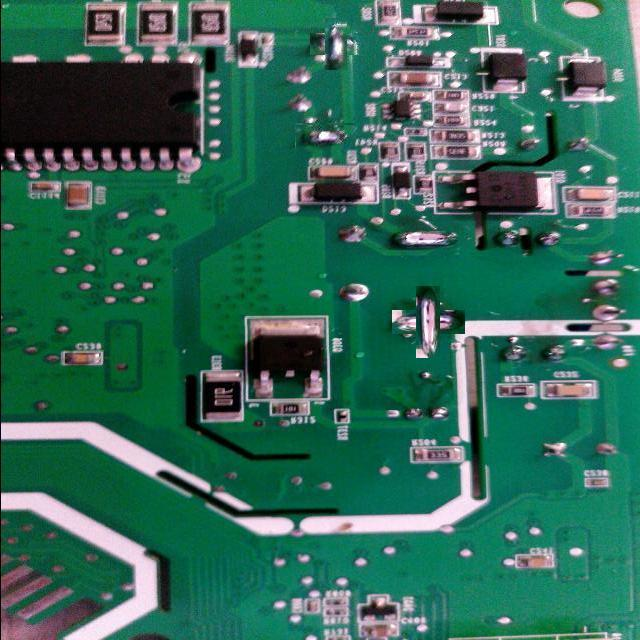Short_circuit: (404, 298, 453, 346), (295, 124, 355, 150), (318, 25, 355, 63), (390, 230, 460, 248)
